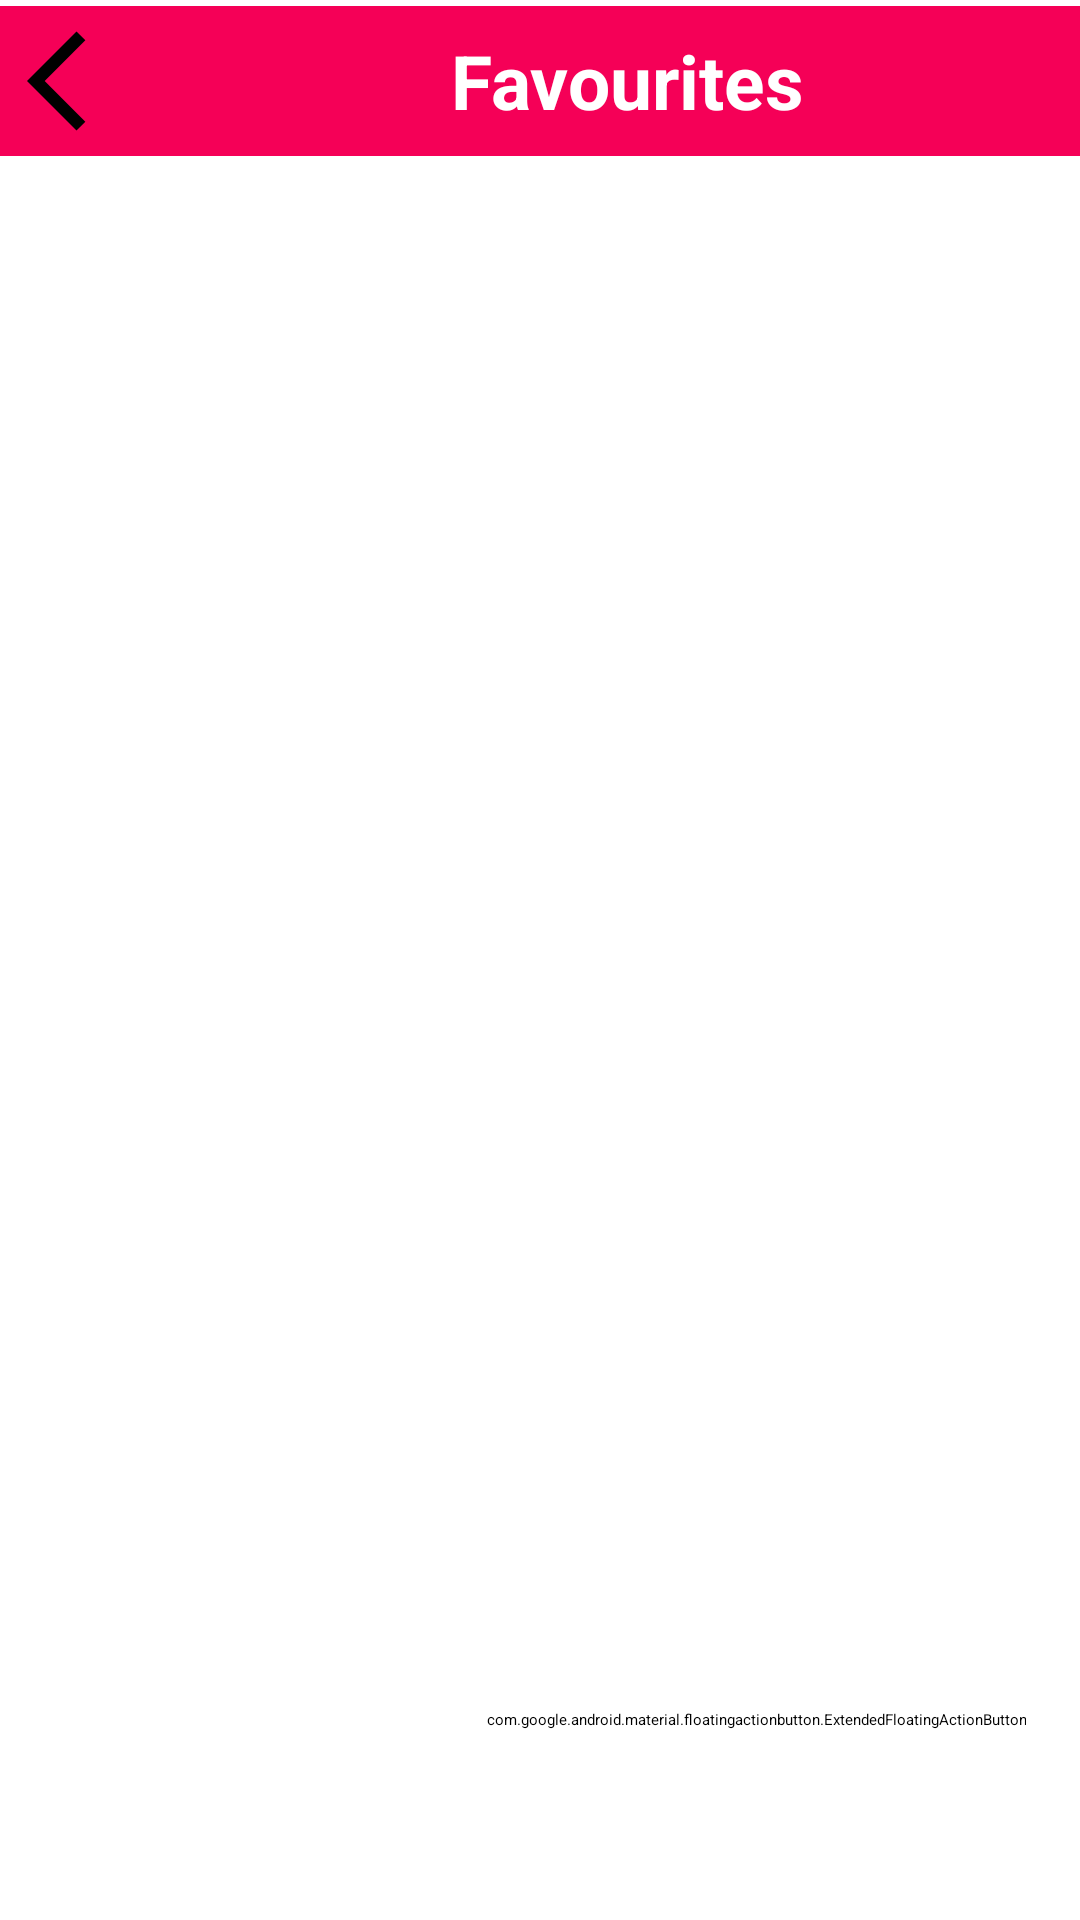

Locate icon controls on the screen. Image size 1080px x 1920px, boxes as (x1, y1, x2, y2).
Back: (27, 31, 86, 131)
